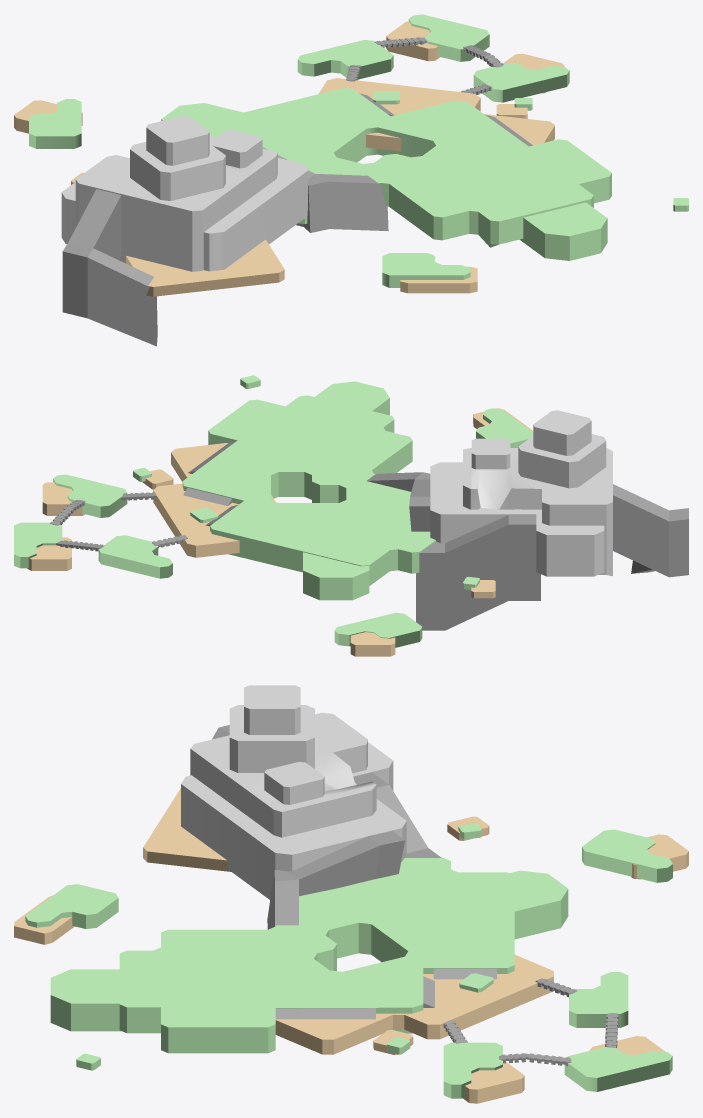
File: SM_Island (2).fbx
The picture shows the model from 3 angles, top to bottom: view 1: azimuth 30°, elevation 25°; view 2: azimuth 150°, elevation 25°; view 3: azimuth 270°, elevation 25°; orthographic projection. The views are drawn at different scales.
Parts seen in each view (by area): view 1: SM_Land5, pCube8, SM_Beaches6; view 2: SM_Land5, pCube8, SM_Beaches6; view 3: SM_Land5, pCube8, SM_Beaches6.
Boxes of the visible parts, x1,y1,x2,y2 form: SM_Land5: (29,14,688,287); pCube8: (61,116,388,346); SM_Beaches6: (14,21,564,296); SM_Land5: (14,375,533,647); pCube8: (367,410,688,630); SM_Beaches6: (27,408,533,656); SM_Land5: (25,823,672,1098); pCube8: (181,685,441,929); SM_Beaches6: (14,788,688,1103).
Size of the model in its own units: 4106 by 1241 by 3542.
